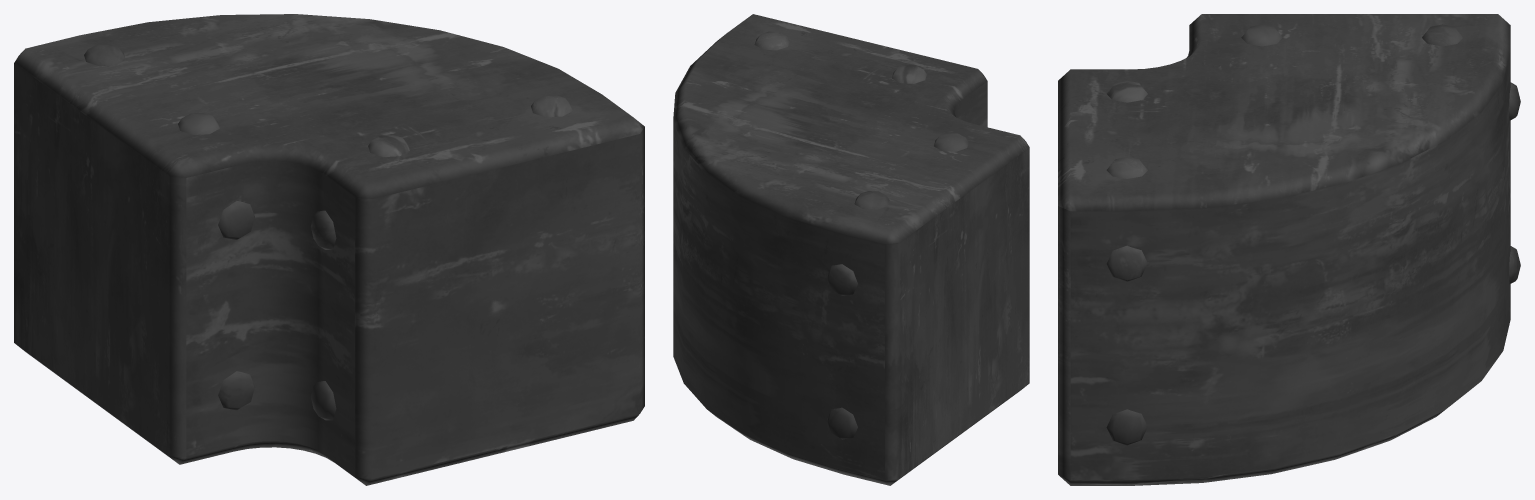
Rendered from pipequad_003.fbx.
The picture shows the model from 3 angles, left to right: view 1: azimuth 30°, elevation 25°; view 2: azimuth 150°, elevation 25°; view 3: azimuth 270°, elevation 25°; orthographic projection. The views are drawn at different scales.
Visible parts, largest first — view 1: pipequad_003; view 2: pipequad_003; view 3: pipequad_003.
Boxes of the visible parts, box(x1,y1,x2,y2) form: pipequad_003: box(14, 14, 644, 485); pipequad_003: box(673, 14, 1029, 485); pipequad_003: box(1058, 14, 1520, 485).
Size of the model in its own units: 1268 by 1269 by 942.
